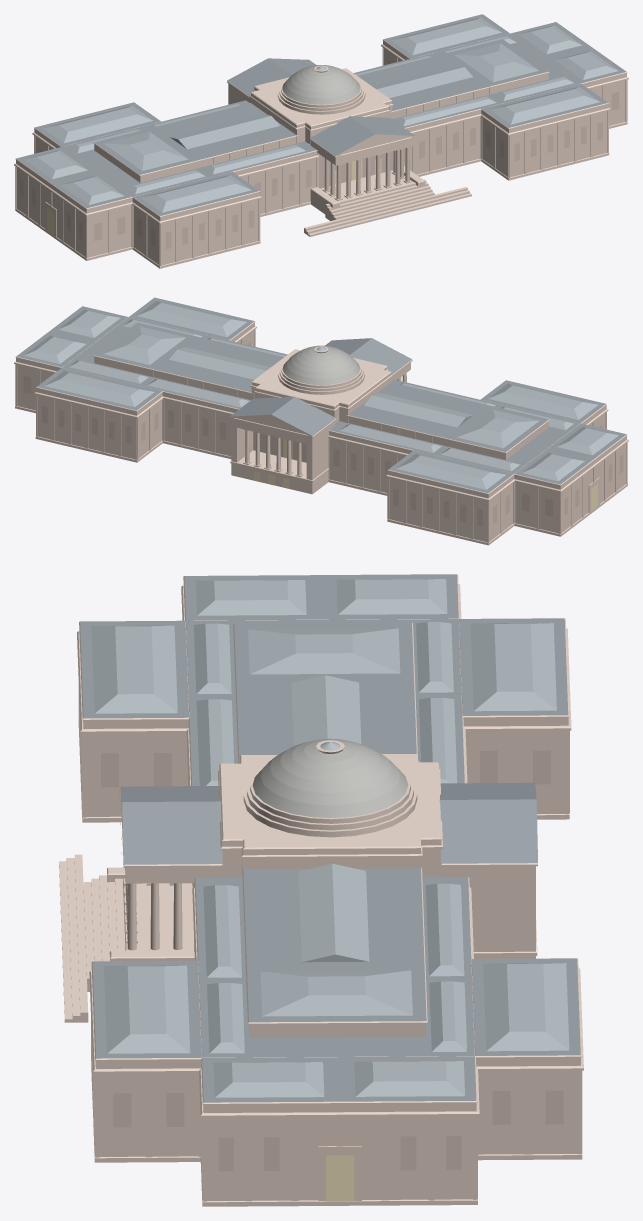
3 views of the same model, one above another, from view 1: azimuth 30°, elevation 25°; view 2: azimuth 150°, elevation 25°; view 3: azimuth 270°, elevation 25° (orthographic). The views are drawn at different scales.
Parts seen in each view (by area): view 1: national-gallery-of-art-west-building; view 2: national-gallery-of-art-west-building; view 3: national-gallery-of-art-west-building.
Part boxes in pixels (<box>): national-gallery-of-art-west-building: <box>14,14,628,268</box>; national-gallery-of-art-west-building: <box>14,297,628,545</box>; national-gallery-of-art-west-building: <box>59,574,583,1206</box>.
Bounding box in the file's own units: 242 × 42.51 × 101.
